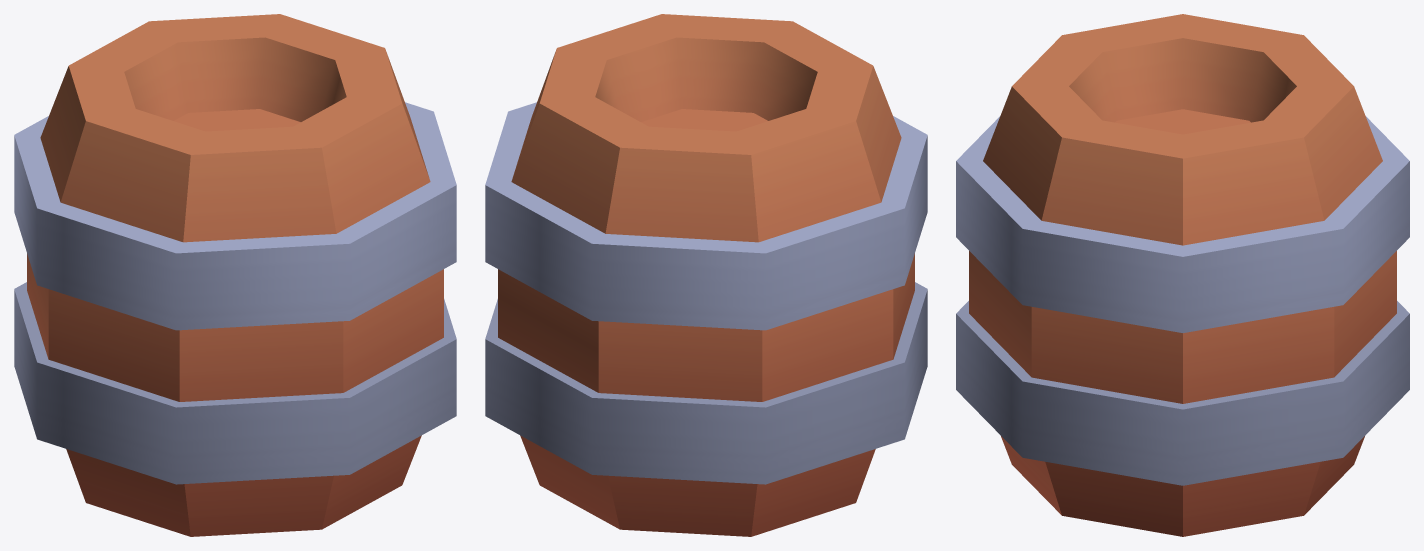
File: barrel.glb
The picture shows the model from 3 angles, left to right: view 1: azimuth 30°, elevation 25°; view 2: azimuth 150°, elevation 25°; view 3: azimuth 270°, elevation 25°; orthographic projection.
Visible parts, largest first — view 1: barrel; view 2: barrel; view 3: barrel.
Boxes of the visible parts, x1,y1,x2,y2 form: barrel: (14, 14, 456, 536); barrel: (485, 14, 927, 536); barrel: (956, 14, 1409, 536).
Size of the model in its own units: 0.5176 by 0.4762 by 0.5176.
